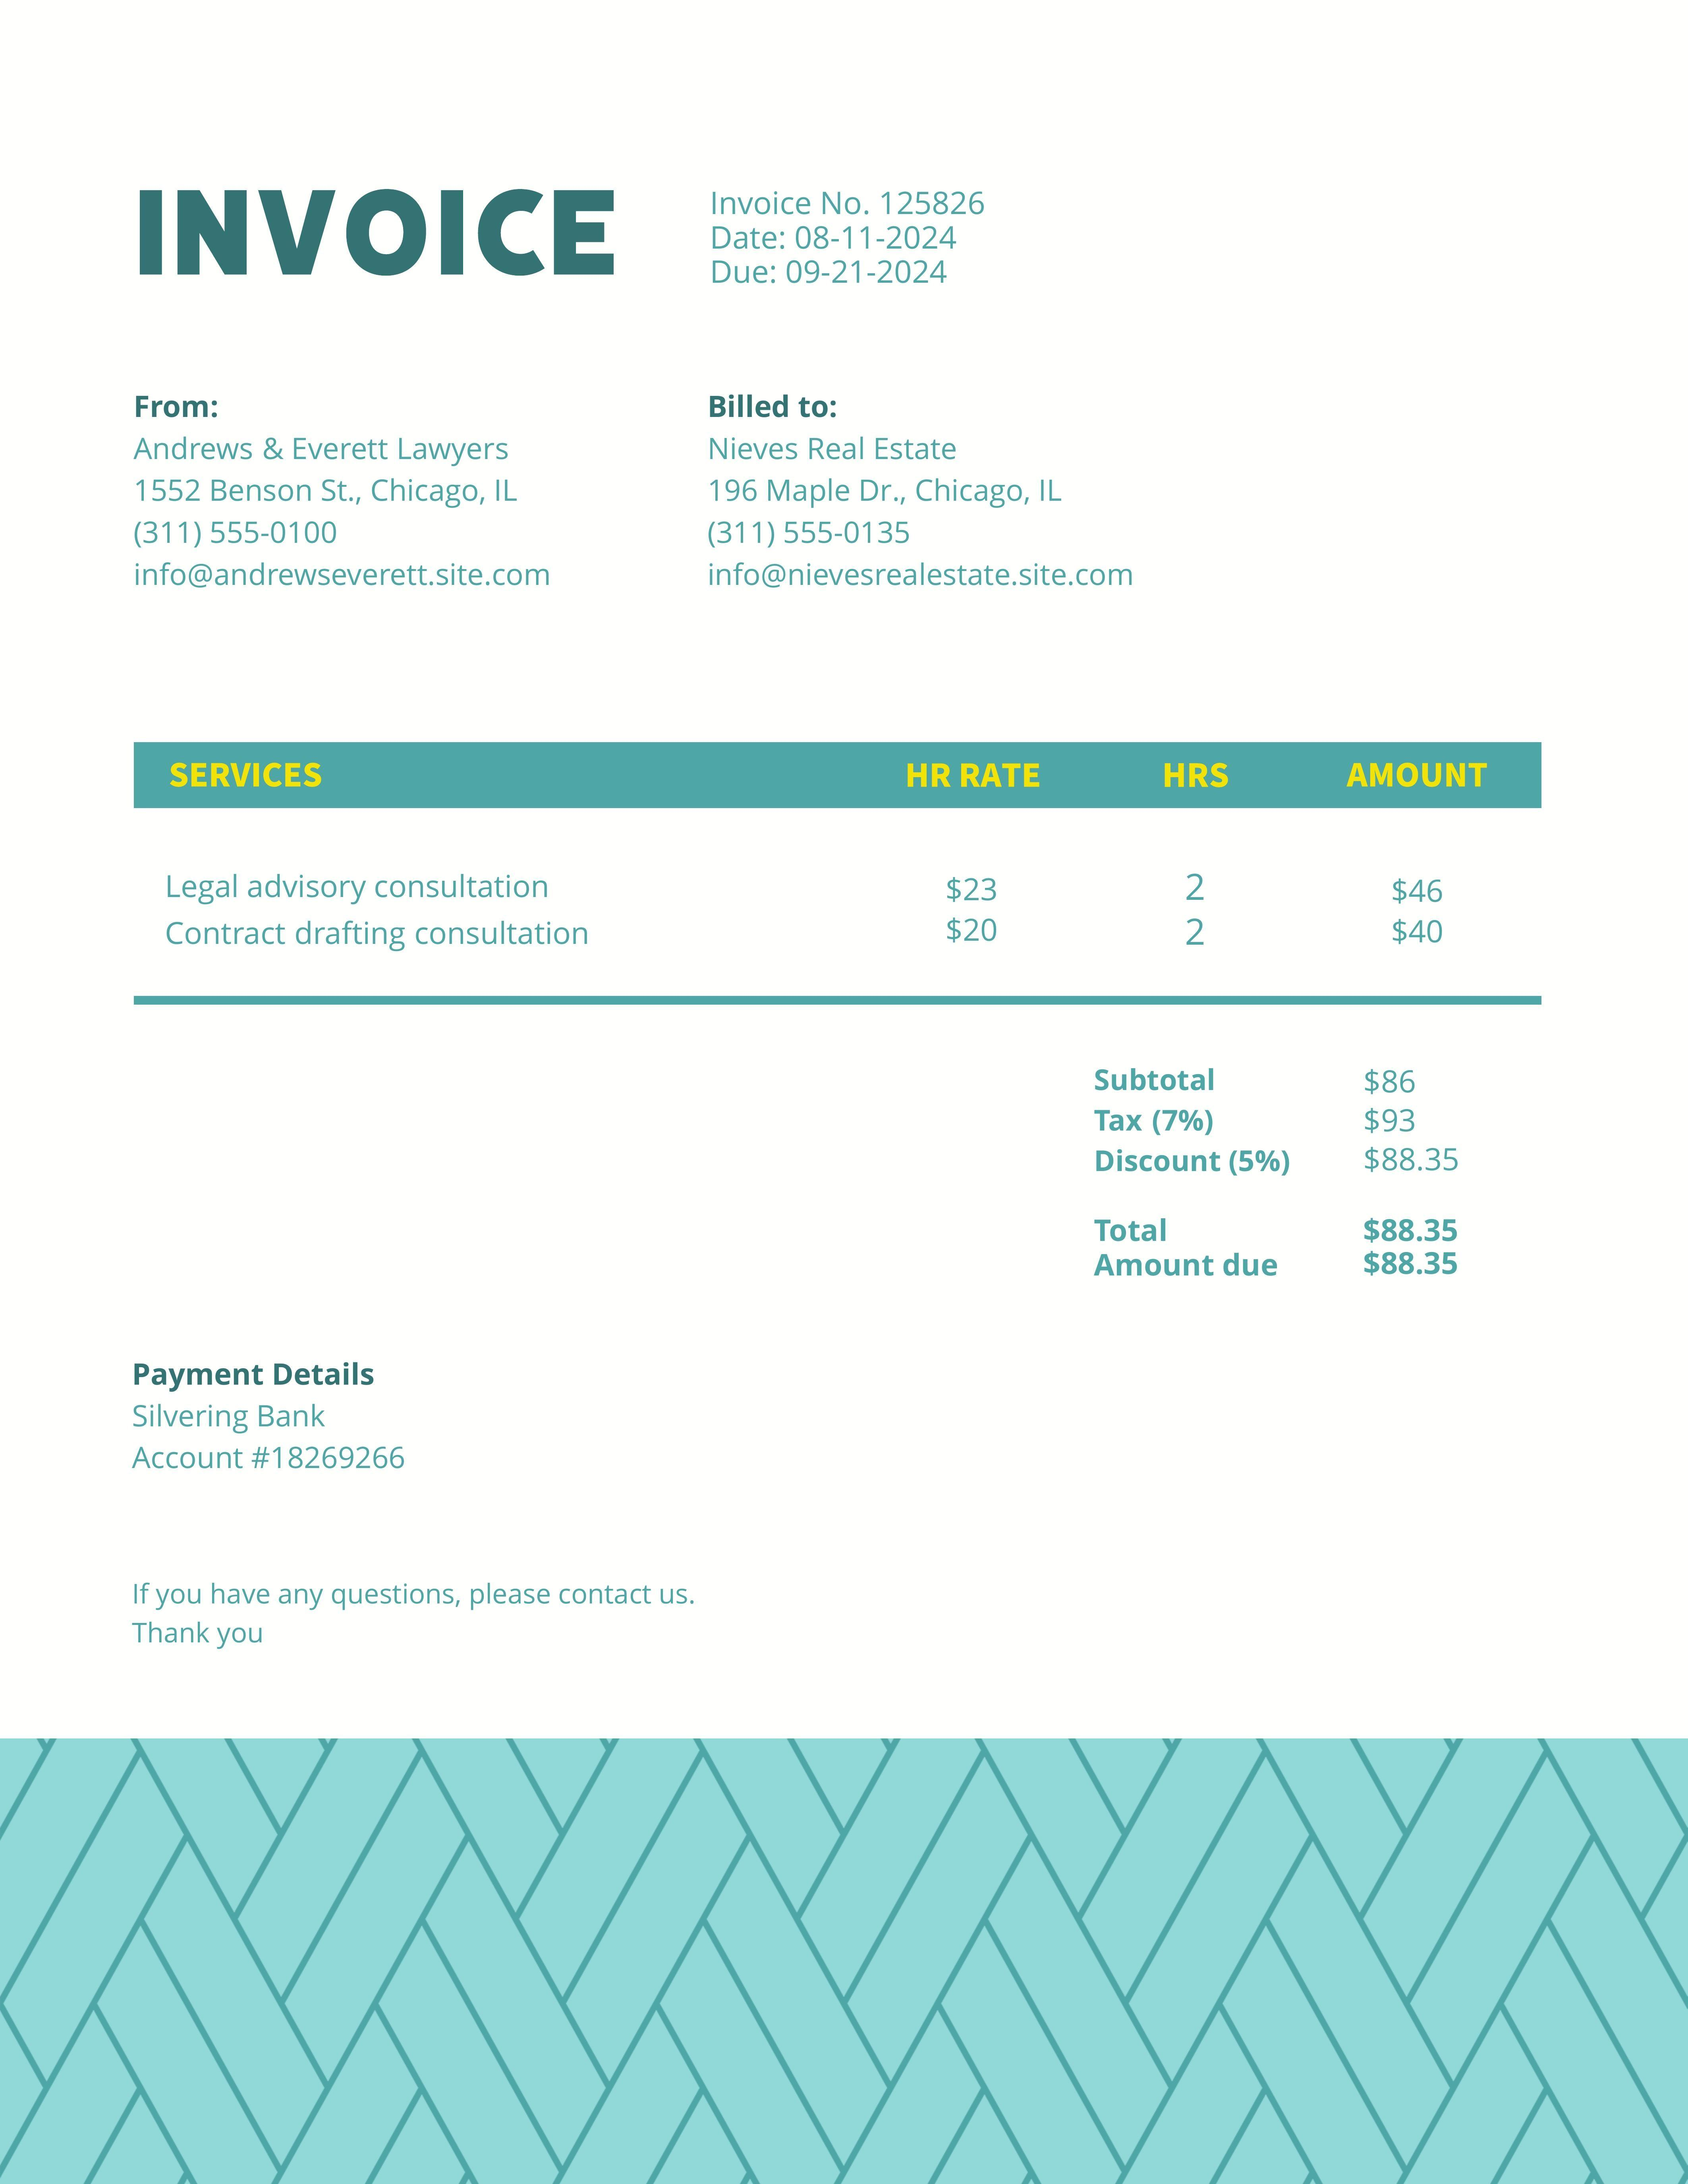ROI: (131, 759, 1512, 989), (702, 388, 1135, 601), (1085, 1058, 1472, 1296), (128, 392, 566, 597), (112, 1353, 433, 1487), (711, 188, 1007, 300)
